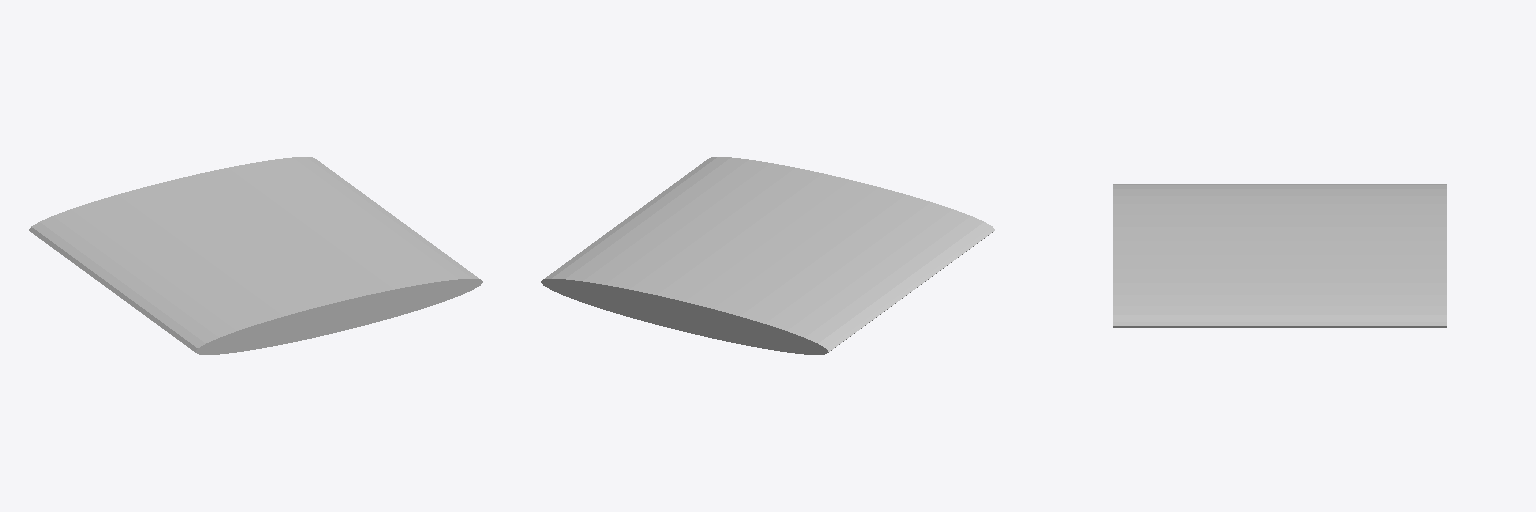
Rendered from wing.obj.
3 views of the same model, side by side, from view 1: azimuth 30°, elevation 25°; view 2: azimuth 150°, elevation 25°; view 3: azimuth 270°, elevation 25° (orthographic).
Visible parts, largest first — view 1: Cylinder; view 2: Cylinder; view 3: Cylinder.
Part boxes in pixels (x1,y1,x2,y2): Cylinder: (29, 157, 482, 354); Cylinder: (541, 157, 994, 354); Cylinder: (1113, 184, 1446, 327).
Bounding box in the file's own units: 2 × 0.2 × 2.